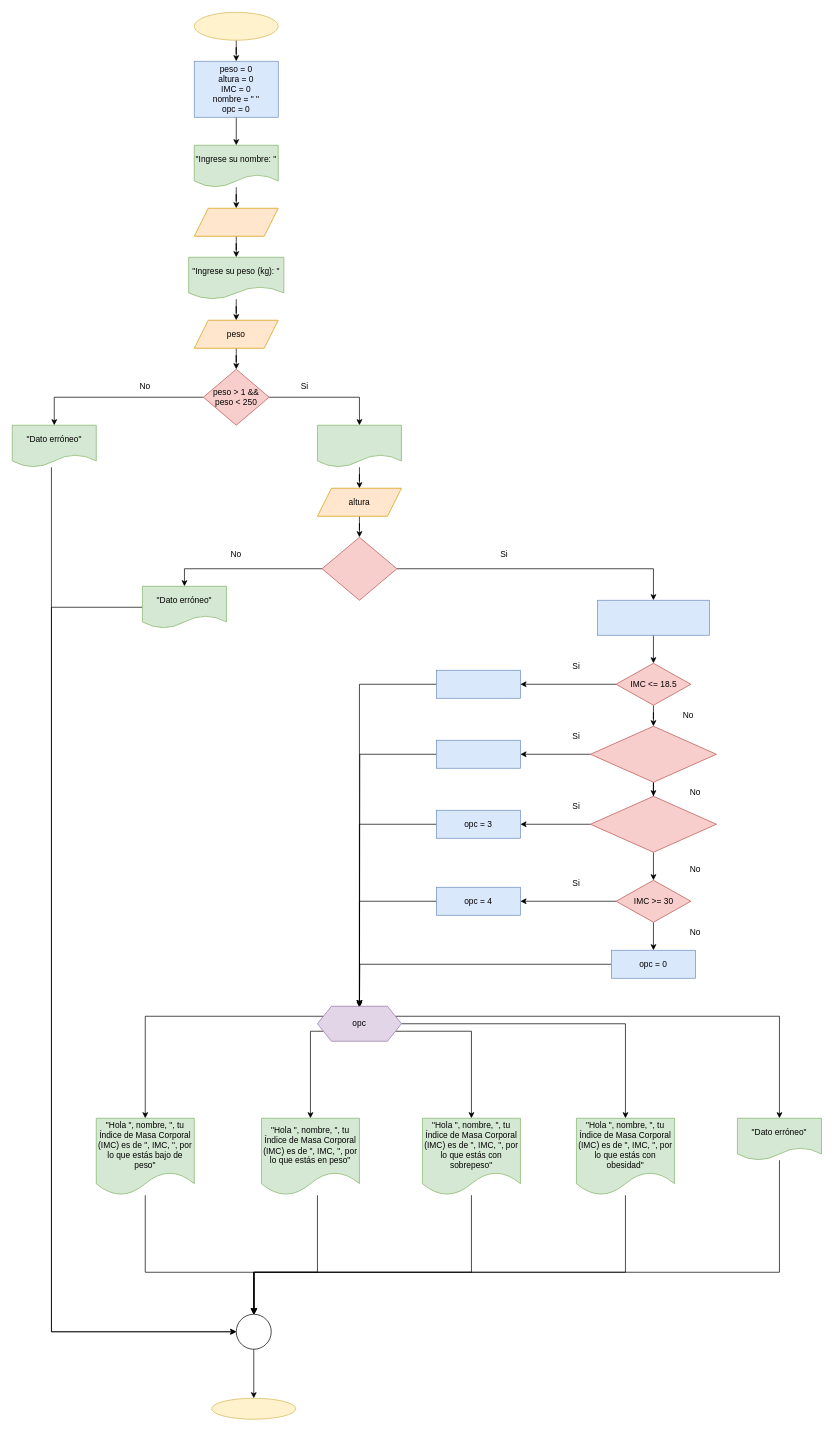
Image size: 834x1432. Some labels were removed from this diagram. The box of each missing label's shape, as (x1, y1, x2, y2) in pixels:
"Ingrese su estatura (metros): ": (317, 425, 401, 467)
altura > 0.30 && altura < 2.50: (321, 537, 397, 600)
Fin: (211, 1398, 296, 1419)
IMC = peso / (altura * altura): (597, 600, 709, 635)
IMC >= 18.6 && IMC <= 24.9: (590, 726, 716, 782)
IMC >= 25 && IMC <= 29.9: (590, 796, 716, 852)
Inicio: (194, 12, 278, 40)
nombre: (194, 208, 278, 236)
opc = 1: (436, 670, 520, 698)
opc = 2: (436, 740, 520, 768)
